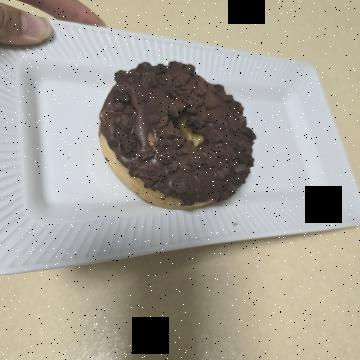doughnut: (50, 93, 222, 261)
